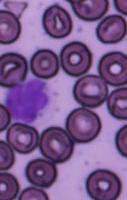M: (3, 76, 58, 126)
